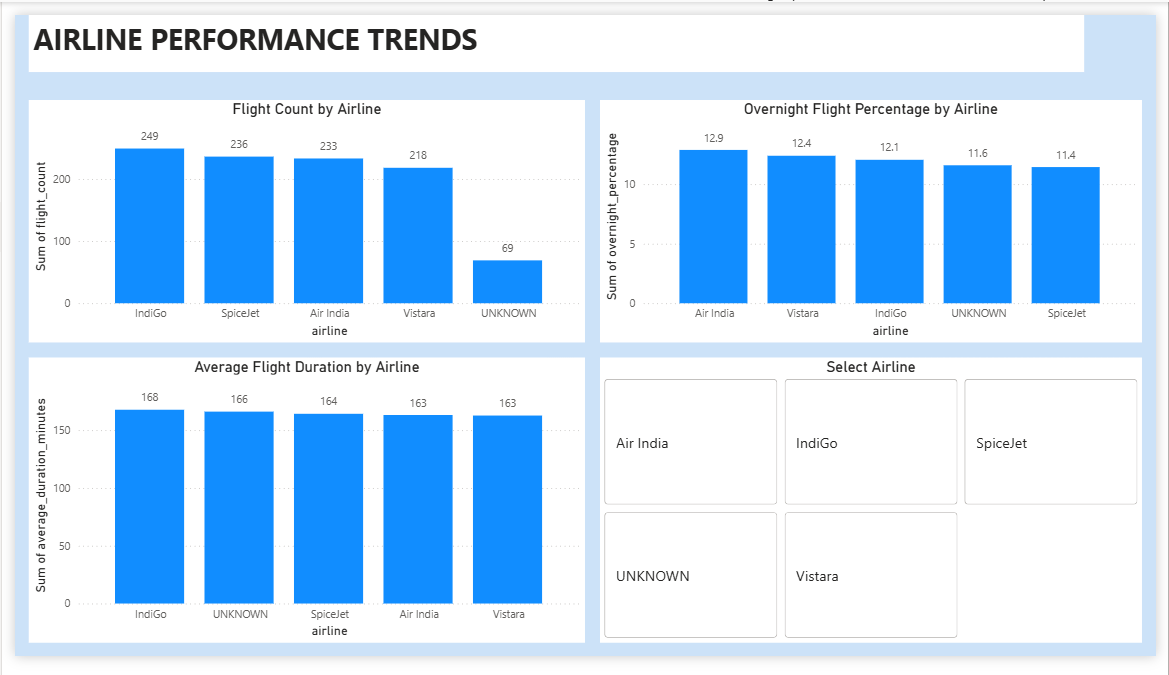

This screenshot's page, from the dashboard's own definition file:
{"tool":"powerbi","page":{"name":"Airline Trends","canvas":[1280,720],"ordinal":3},"visuals":[{"type":"clusteredColumnChart","title":"Flight Count by Airline","fields":{"Category":["ASG_airline_performance.airline"],"Y":["Sum(ASG_airline_performance.flight_count)"]},"box":[16,96,624,272],"z":0},{"type":"clusteredColumnChart","title":"Average Flight Duration by Airline","fields":{"Category":["ASG_airline_performance.airline"],"Y":["Sum(ASG_airline_performance.average_duration_minutes)"]},"box":[16,384,624,320],"z":1000},{"type":"clusteredColumnChart","title":"Overnight Flight Percentage by Airline","fields":{"Category":["ASG_airline_performance.airline"],"Y":["Sum(ASG_airline_performance.overnight_percentage)"]},"box":[656,96,608,272],"z":2000},{"type":"advancedSlicerVisual","title":"Select Airline","fields":{"Values":["ASG_airline_performance.airline"]},"box":[656,384,608,320],"z":3000},{"type":"textbox","box":[16,0,1184,64],"z":5000}]}

Visuals, with their boxes in screenshot pixels (x1, y1, x2, y2), scaled from the page's 1280x720 canvas onto the 1169x675 screenshot:
"Flight Count by Airline" clusteredColumnChart: bbox=(15, 90, 584, 345)
"Average Flight Duration by Airline" clusteredColumnChart: bbox=(15, 360, 584, 660)
"Overnight Flight Percentage by Airline" clusteredColumnChart: bbox=(599, 90, 1154, 345)
"Select Airline" advancedSlicerVisual: bbox=(599, 360, 1154, 660)
textbox: bbox=(15, 0, 1096, 60)
